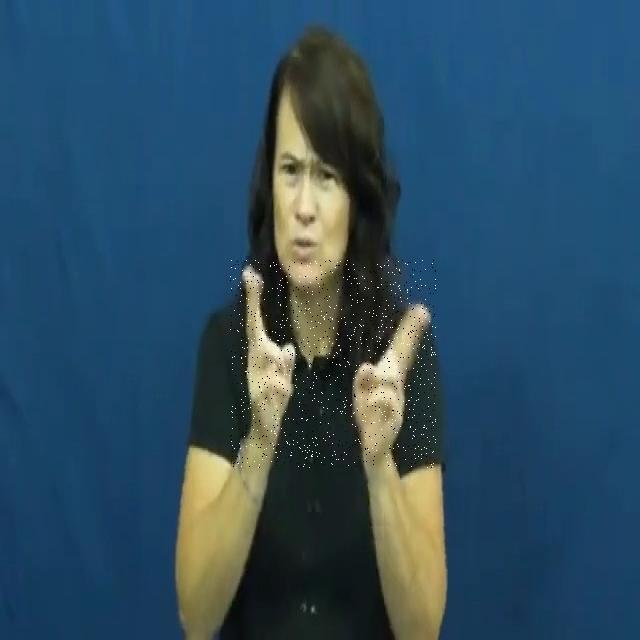urgent: (230, 260, 436, 468)
